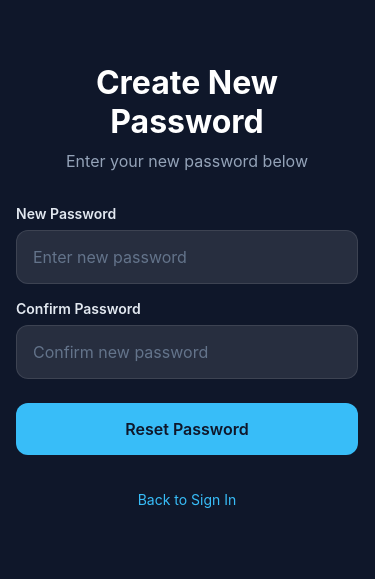
Test case: ResetPasswordScreen › Reset Password Mode (with token) › shows password requirements when new password focused
Focus the password field with placeholder "Enter new password": (187,256) [16,230,358,284]
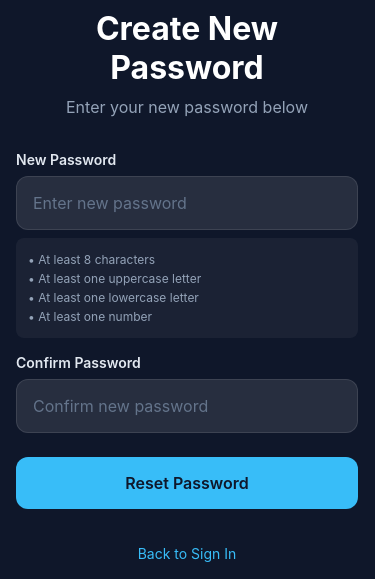
Expected: the text "• At least 8 characters" is shown, [28,252,155,266]
